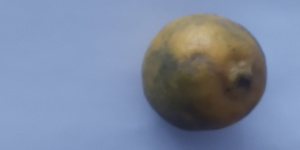BAD: (140, 11, 271, 133)
